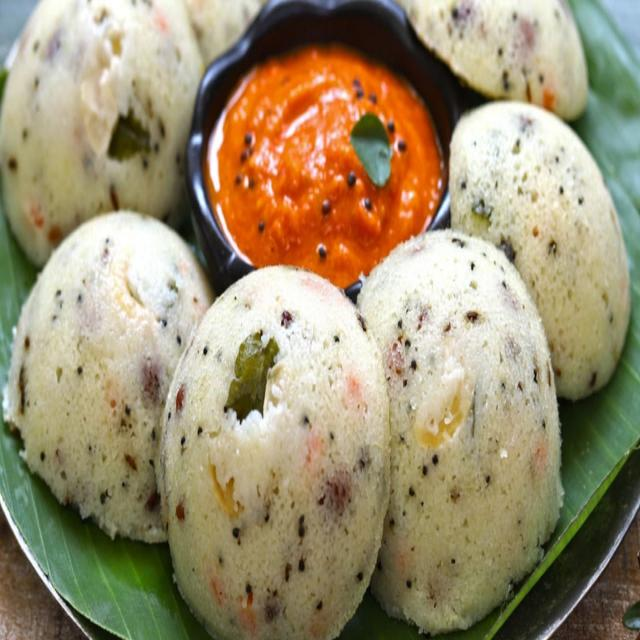rave idli: (157, 258, 393, 640), (358, 226, 566, 640), (4, 208, 205, 564), (448, 87, 640, 406), (0, 0, 200, 241), (402, 0, 606, 125)
